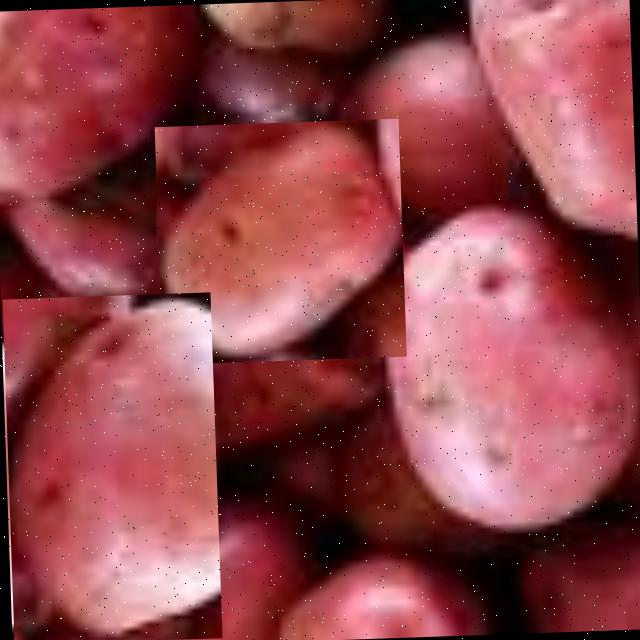Defected potato: (373, 207, 640, 538), (1, 292, 221, 640), (153, 118, 405, 364)
